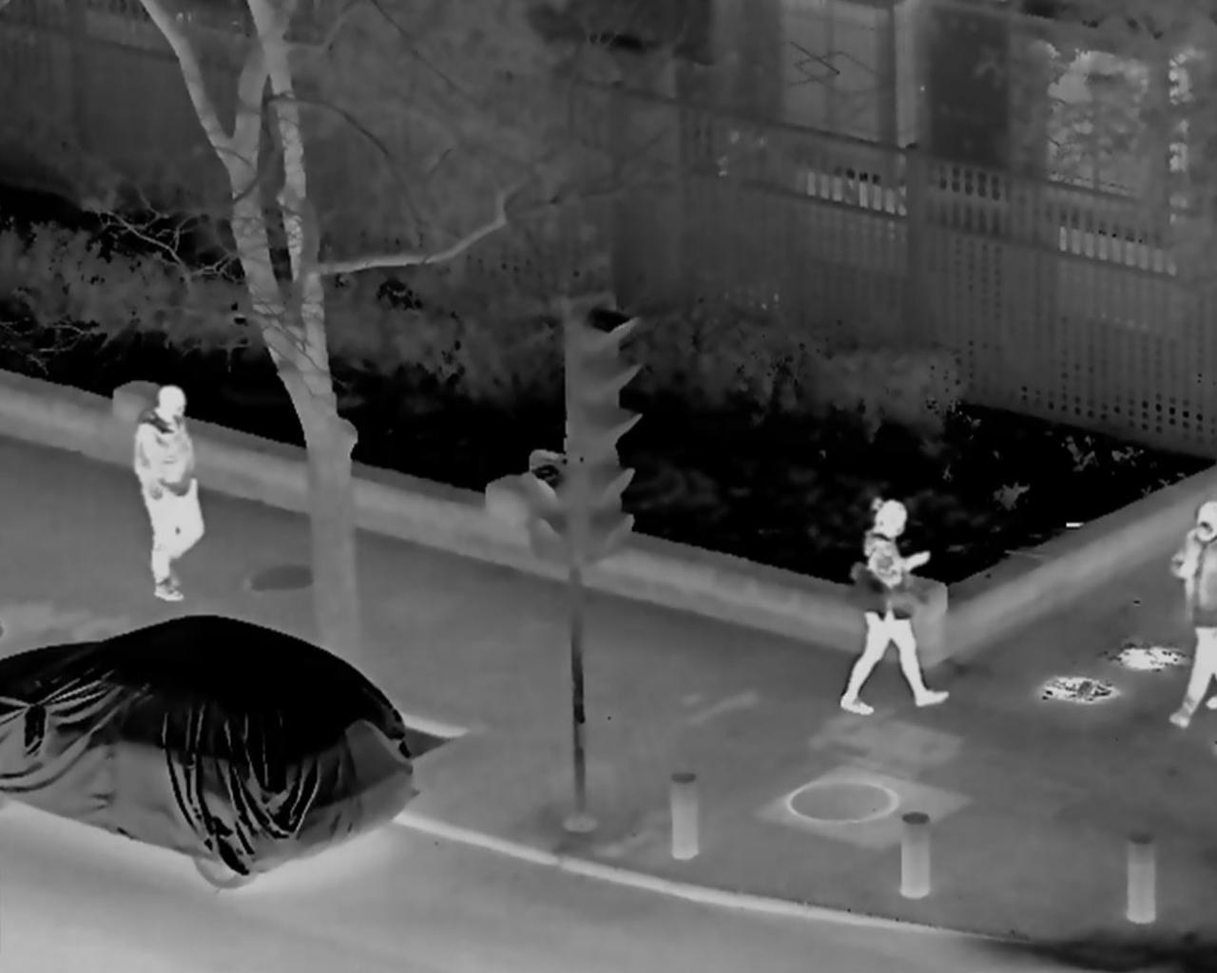person: (831, 501, 952, 718), (133, 386, 203, 603), (1172, 504, 1217, 722)
